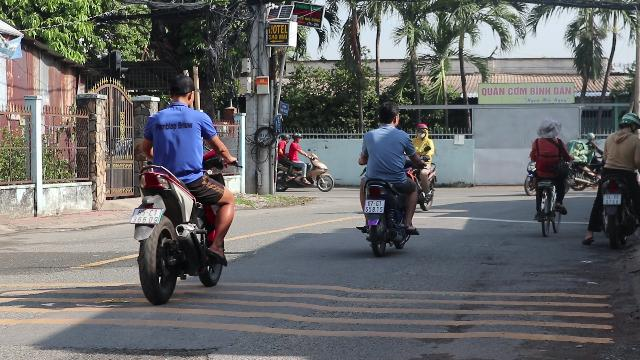helmet: (617, 113, 639, 133)
licenseplate: (131, 208, 163, 224), (366, 199, 384, 212), (603, 194, 621, 204)
motorcyclist: (127, 72, 239, 303), (352, 100, 421, 256), (587, 112, 639, 246)
nohelmet: (166, 74, 197, 108), (376, 101, 400, 127)
